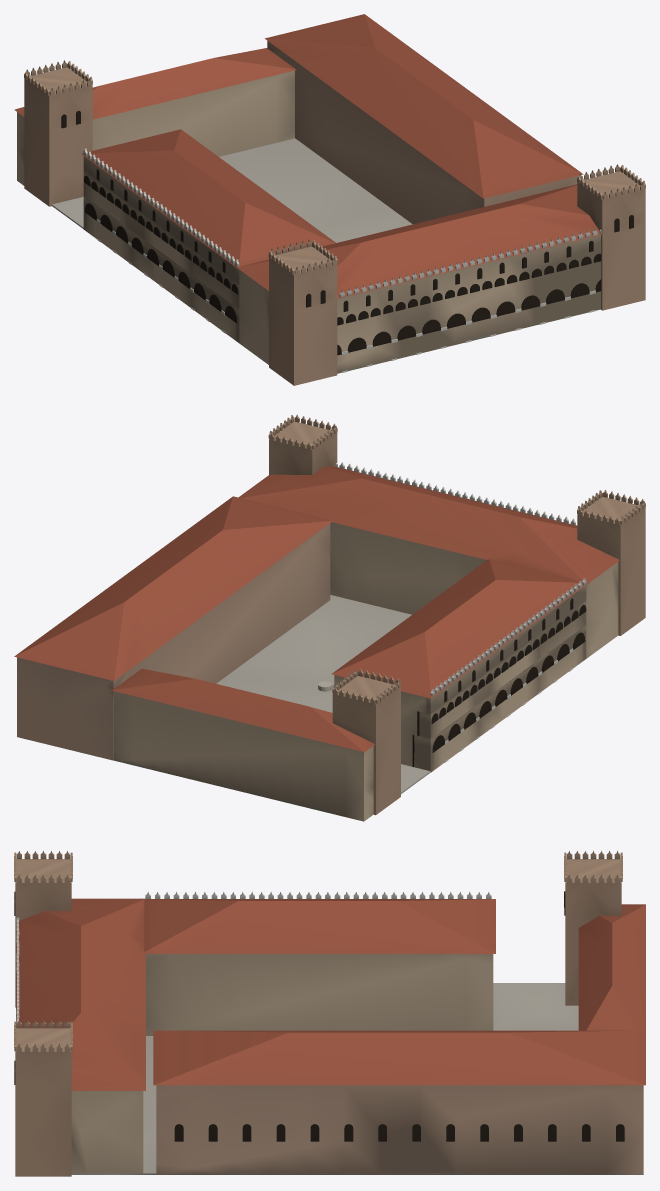
File: doges-palace-ziani.glb
3 views of the same model, one above another, from view 1: azimuth 30°, elevation 25°; view 2: azimuth 150°, elevation 25°; view 3: azimuth 270°, elevation 25° (orthographic). The views are drawn at different scales.
Parts seen in each view (by area): view 1: p0_walls, p2_roofs, p1_facades; view 2: p0_walls, p2_roofs, p1_facades; view 3: p0_walls, p2_roofs, p1_facades.
Boxes of the visible parts, x1,y1,x2,y2 form: p0_walls: (17,41,600,373); p2_roofs: (14,14,601,299); p1_facades: (24,60,645,385); p0_walls: (17,522,618,821); p2_roofs: (14,466,619,752); p1_facades: (268,414,645,815); p0_walls: (71,954,643,1174); p2_roofs: (16,898,645,1090); p1_facades: (14,850,624,1176).
Size of the model in its own units: 73.43 by 23.44 by 101.
